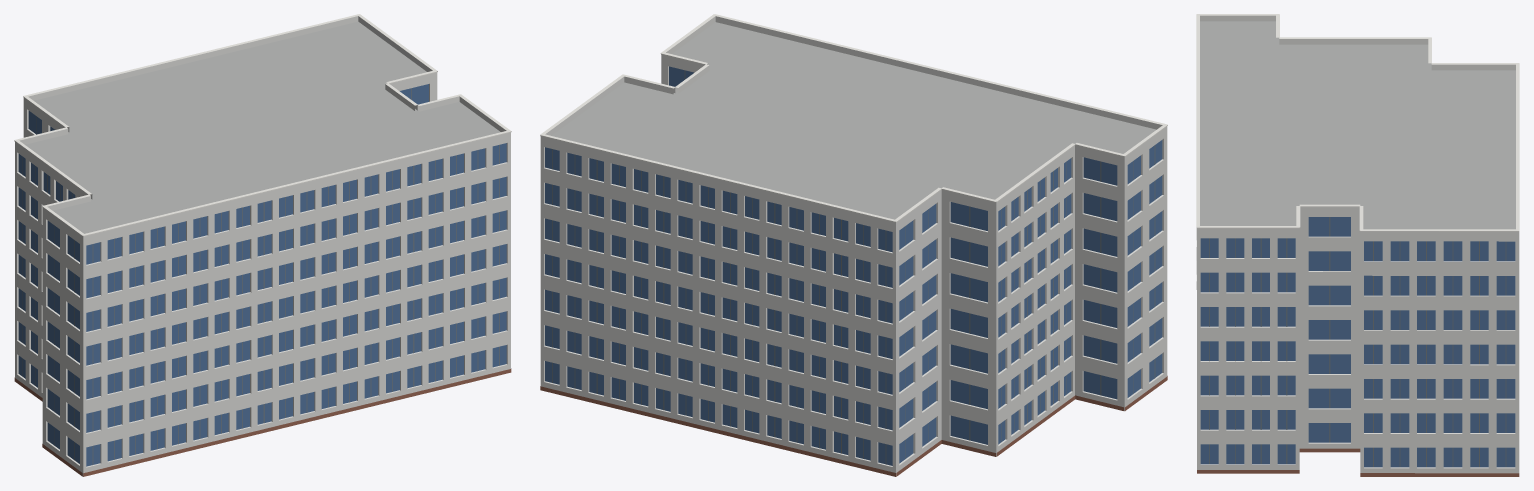
3 views of the same model, side by side, from view 1: azimuth 30°, elevation 25°; view 2: azimuth 150°, elevation 25°; view 3: azimuth 270°, elevation 25° (orthographic). The views are drawn at different scales.
Visible parts, largest first — view 1: gabriel__wall, gabriel__roof, gabriel__glass, gabriel__parapet, gabriel__frame, gabriel__trim, gabriel__base; view 2: gabriel__wall, gabriel__glass, gabriel__roof, gabriel__parapet, gabriel__frame, gabriel__trim, gabriel__base; view 3: gabriel__roof, gabriel__wall, gabriel__glass, gabriel__parapet, gabriel__trim, gabriel__frame, gabriel__base.
Part boxes in pixels (x1,y1,x2,y2): gabriel__wall: (15,77,510,476); gabriel__roof: (25,21,500,233); gabriel__glass: (18,84,506,466); gabriel__parapet: (15,16,510,241); gabriel__frame: (22,88,499,464); gabriel__trim: (14,14,511,236); gabriel__base: (14,368,511,476); gabriel__wall: (540,59,1167,476); gabriel__glass: (545,66,1162,465); gabriel__roof: (551,22,1156,219); gabriel__parapet: (540,16,1167,227); gabriel__frame: (552,70,1155,464); gabriel__trim: (540,14,1167,222); gabriel__base: (540,376,1167,476); gabriel__roof: (1200,21,1515,229); gabriel__wall: (1196,211,1519,473); gabriel__glass: (1200,217,1515,467); gabriel__parapet: (1197,15,1519,236); gabriel__trim: (1196,14,1519,231); gabriel__frame: (1209,217,1506,467); gabriel__base: (1197,448,1519,476).
Size of the model in its own units: 48.74 by 25.8 by 30.74.
